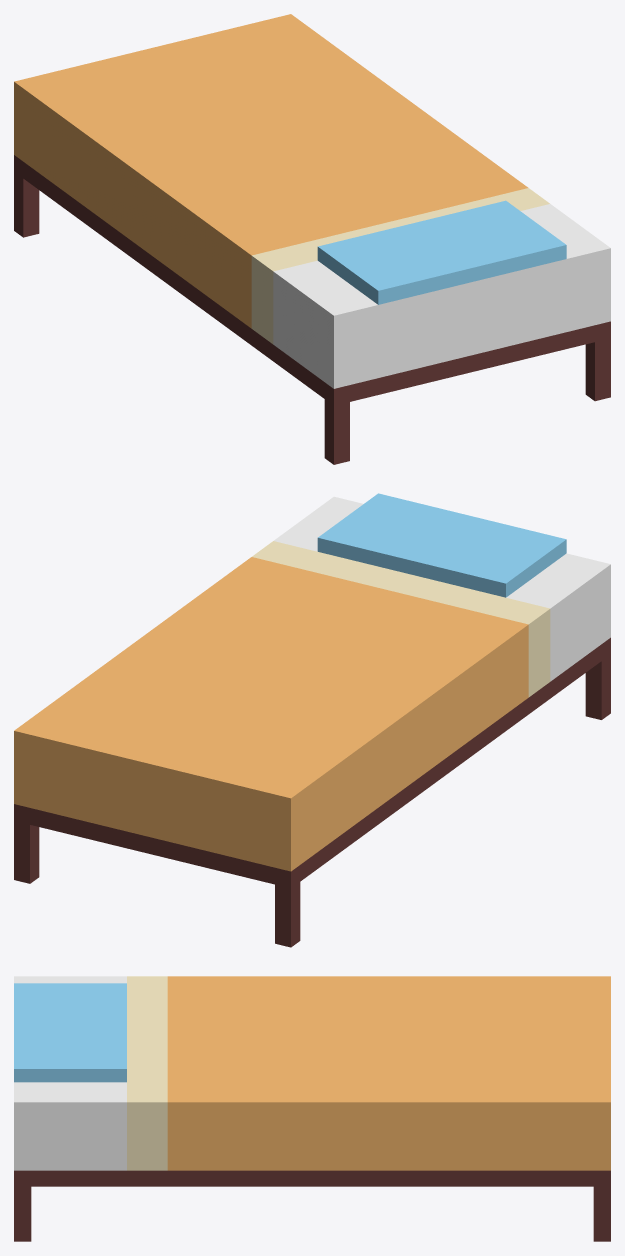
The model's file is bed.glb.
The picture shows the model from 3 angles, top to bottom: view 1: azimuth 30°, elevation 25°; view 2: azimuth 150°, elevation 25°; view 3: azimuth 270°, elevation 25°; orthographic projection. The views are drawn at different scales.
Visible parts, largest first — view 1: Huton, Leg, Pillow; view 2: Huton, Leg, Pillow; view 3: Huton, Leg, Pillow.
Boxes of the visible parts, x1,y1,x2,y2 form: Huton: (14,14,610,388); Leg: (14,155,610,464); Pillow: (317,200,566,304); Huton: (14,496,610,871); Leg: (14,637,610,947); Pillow: (317,493,566,597); Huton: (14,976,610,1170); Leg: (14,1170,610,1241); Pillow: (14,983,126,1082).
Size of the model in its own units: 1.03 by 0.58 by 2.06.
